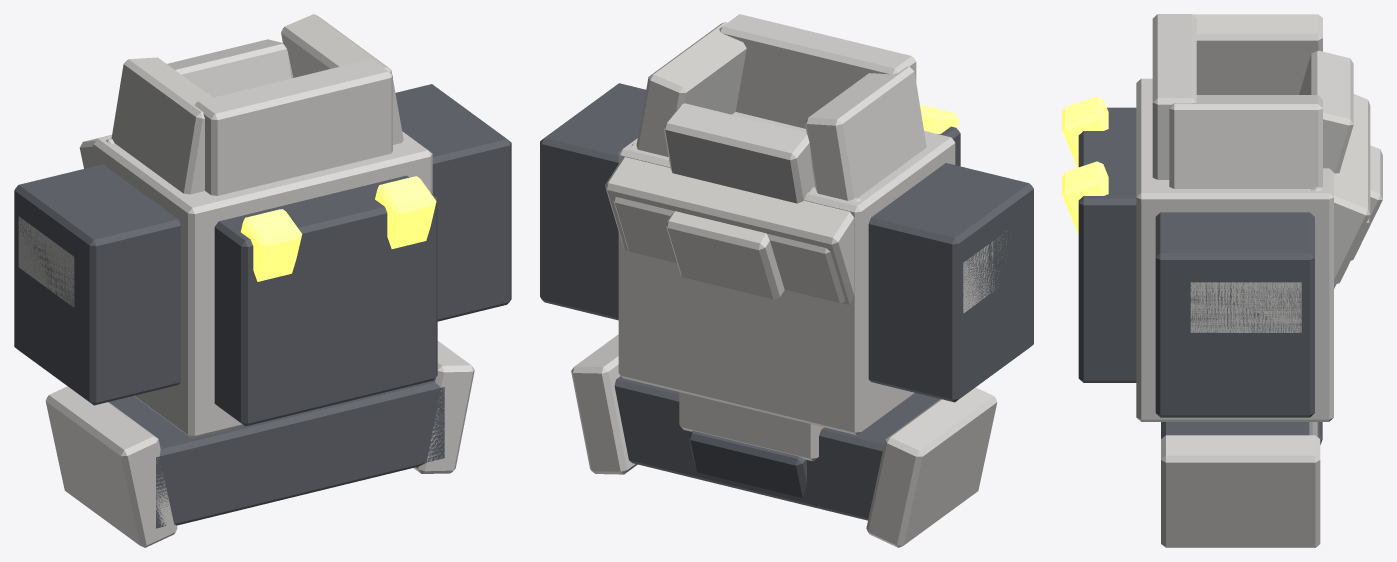
Rendered from tankhead_body.glb.
3 renders of one model, left to right at view 1: azimuth 30°, elevation 25°; view 2: azimuth 150°, elevation 25°; view 3: azimuth 270°, elevation 25°, orthographic.
Parts seen in each view (by area): view 1: tankhead_body; view 2: tankhead_body; view 3: tankhead_body.
Part boxes in pixels (x1,y1,x2,y2): tankhead_body: (14,14,511,547); tankhead_body: (540,14,1033,547); tankhead_body: (1062,14,1382,547).
Size of the model in its own units: 1.76 by 1.68 by 1.17.
